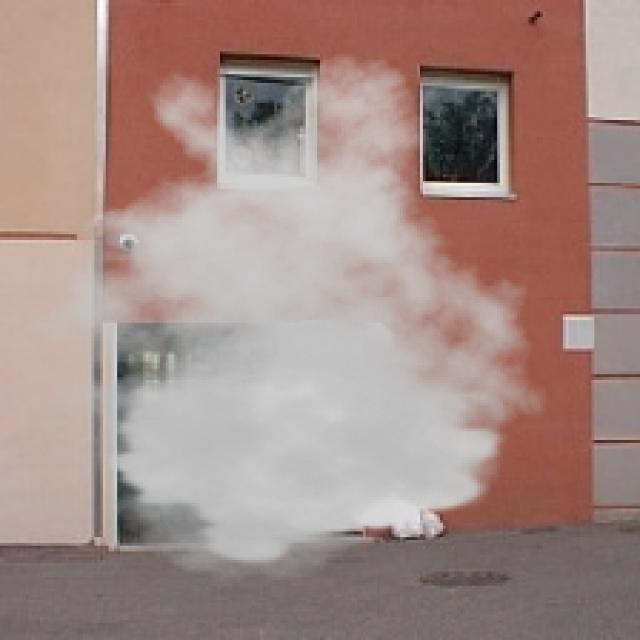Smoke: (0, 51, 557, 583)
